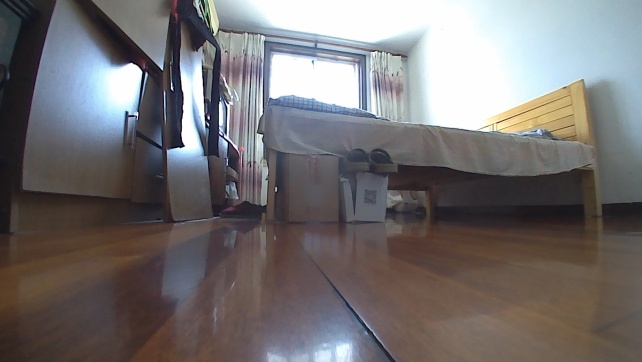bed: (253, 72, 604, 226)
shoe: (217, 198, 263, 221)
